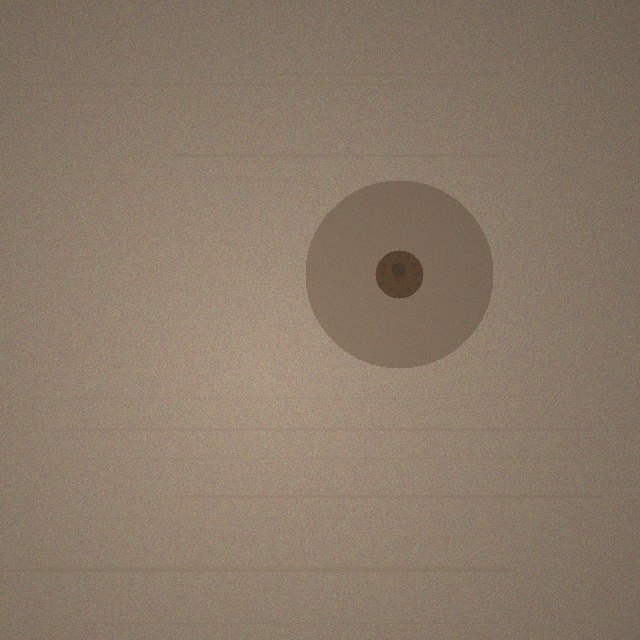cold_weld: (305, 180, 493, 368)
